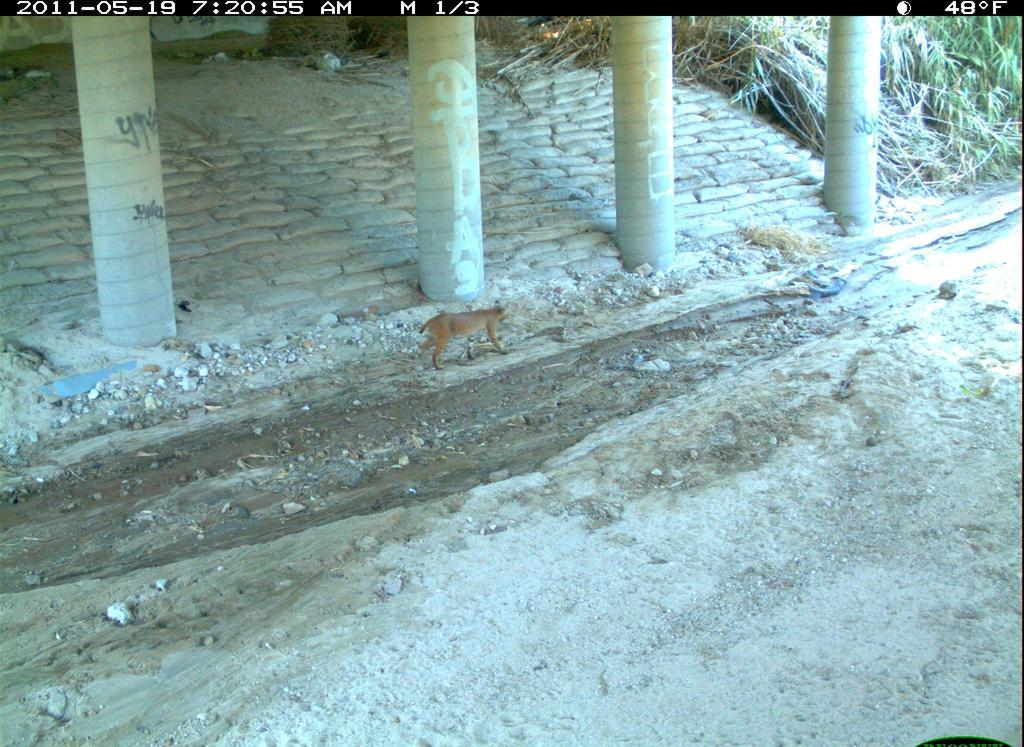bobcat: (830, 605, 1024, 745)
